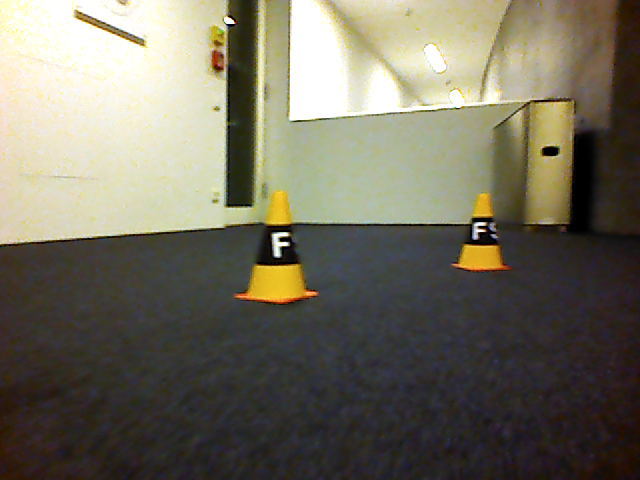yellowcone: (232, 189, 321, 307), (451, 192, 512, 274)
